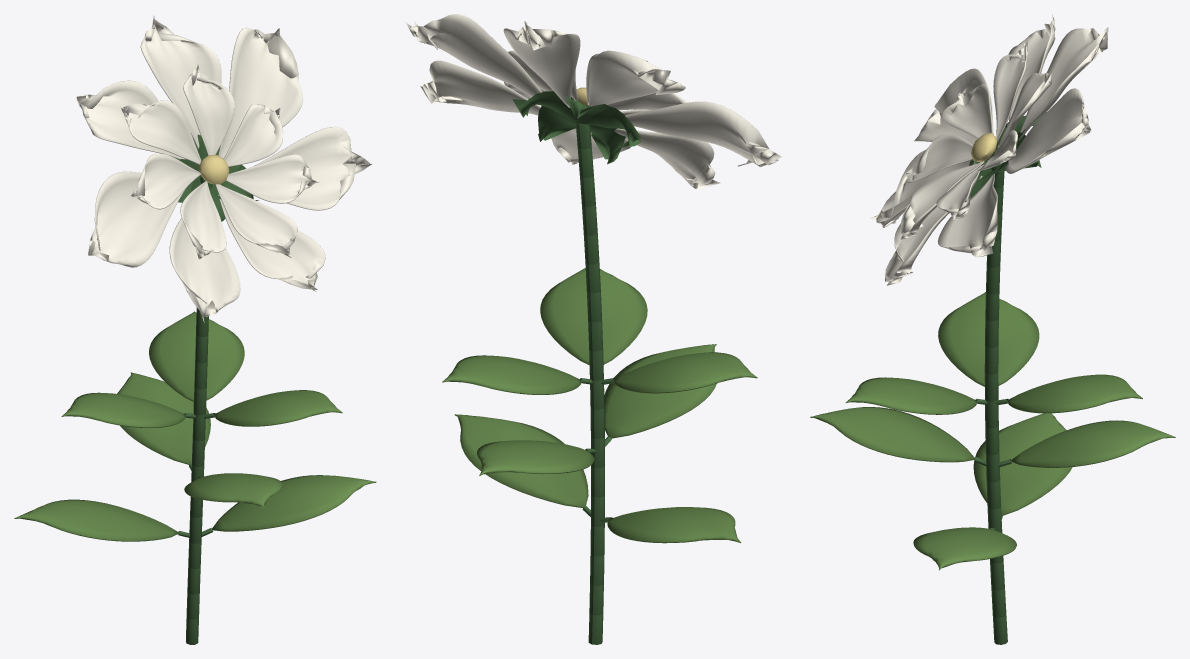
File: gardenia-fine-v2.glb
3 renders of one model, left to right at view 1: azimuth 30°, elevation 25°; view 2: azimuth 150°, elevation 25°; view 3: azimuth 270°, elevation 25°, orthographic. The views are drawn at different scales.
Visible parts, largest first — view 1: gardenia-fine-v2-petal, gardenia-fine-v2-leaf, gardenia-fine-v2-stem, gardenia-fine-v2-center; view 2: gardenia-fine-v2-leaf, gardenia-fine-v2-petal, gardenia-fine-v2-stem; view 3: gardenia-fine-v2-leaf, gardenia-fine-v2-petal, gardenia-fine-v2-stem, gardenia-fine-v2-center.
Boxes of the visible parts, x1,y1,x2,y2 form: gardenia-fine-v2-petal: (76, 15, 371, 322); gardenia-fine-v2-leaf: (14, 311, 376, 541); gardenia-fine-v2-stem: (175, 134, 258, 644); gardenia-fine-v2-center: (199, 155, 229, 184); gardenia-fine-v2-leaf: (442, 268, 757, 543); gardenia-fine-v2-petal: (405, 14, 781, 189); gardenia-fine-v2-stem: (512, 91, 641, 644); gardenia-fine-v2-leaf: (810, 292, 1175, 570); gardenia-fine-v2-petal: (870, 14, 1108, 285); gardenia-fine-v2-stem: (969, 112, 1046, 644); gardenia-fine-v2-center: (971, 132, 997, 162).
Bounding box in the file's own units: 1.04 × 1.81 × 0.9629.
